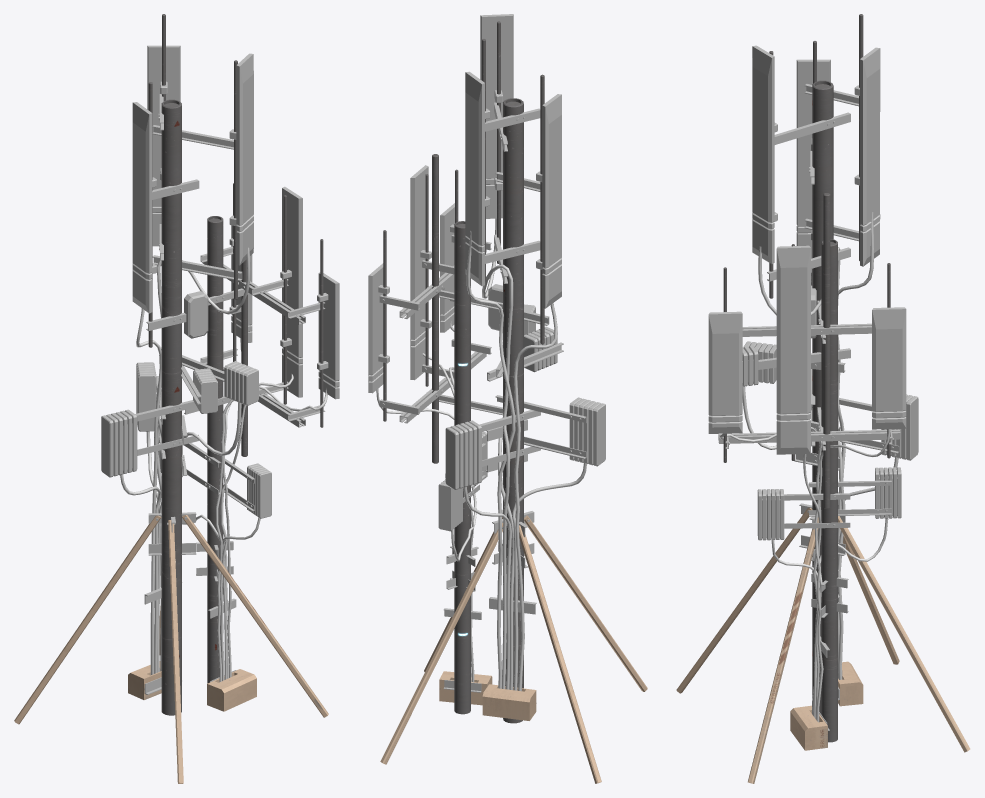
Rendered from KB3D_CBP_Antenna_E.fbx.
The picture shows the model from 3 angles, left to right: view 1: azimuth 30°, elevation 25°; view 2: azimuth 150°, elevation 25°; view 3: azimuth 270°, elevation 25°; orthographic projection. The views are drawn at different scales.
Visible parts, largest first — view 1: KB3D_CBP_Antenna_E_Main; view 2: KB3D_CBP_Antenna_E_Main; view 3: KB3D_CBP_Antenna_E_Main.
Boxes of the visible parts, x1,y1,x2,y2 form: KB3D_CBP_Antenna_E_Main: [14, 14, 339, 783]; KB3D_CBP_Antenna_E_Main: [368, 14, 647, 783]; KB3D_CBP_Antenna_E_Main: [676, 14, 970, 783].
Size of the model in its own units: 288 by 778 by 290.
